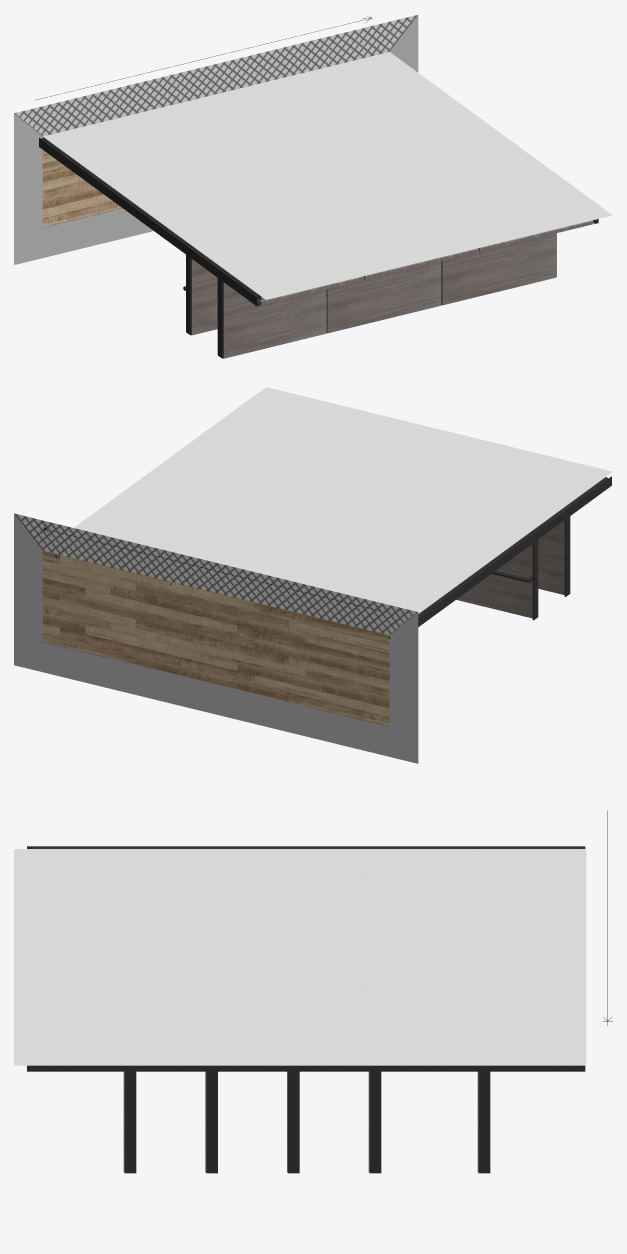
File: A3 Pantry V3 SC.OBJ
3 renders of one model, top to bottom at view 1: azimuth 30°, elevation 25°; view 2: azimuth 150°, elevation 25°; view 3: azimuth 270°, elevation 25°, orthographic. The views are drawn at different scales.
Visible parts, largest first — view 1: Object_86, Object_87, Object_59, Object_62, Object_64, Object_93, Object_91, Object_85, Object_2, Object_56, Object_0, Object_89 (+5 smaller); view 2: Object_86, Object_85, Object_87, Object_91, Object_93, Object_89, Object_56, Object_2, Object_59, Object_0, Object_60, Object_57; view 3: Object_86, Object_48, Object_65, Object_79, Object_84, Object_69, Object_74, Object_2, Object_0.
Boxes of the visible parts, <box> form: Object_86: <box>43,52,612,299</box>; Object_87: <box>14,15,417,136</box>; Object_59: <box>223,282,326,358</box>; Object_62: <box>327,261,441,333</box>; Object_64: <box>442,233,555,305</box>; Object_93: <box>14,113,42,264</box>; Object_91: <box>14,208,153,264</box>; Object_85: <box>42,137,122,227</box>; Object_2: <box>39,137,260,306</box>; Object_56: <box>191,259,217,335</box>; Object_0: <box>41,137,262,300</box>; Object_89: <box>390,15,418,72</box>; Object_86: <box>74,387,612,613</box>; Object_85: <box>42,550,389,726</box>; Object_87: <box>14,513,417,634</box>; Object_91: <box>14,642,417,763</box>; Object_93: <box>389,612,418,763</box>; Object_89: <box>14,514,42,664</box>; Object_56: <box>456,544,532,618</box>; Object_2: <box>418,476,611,626</box>; Object_59: <box>538,520,564,594</box>; Object_0: <box>418,477,608,617</box>; Object_60: <box>564,516,570,596</box>; Object_57: <box>532,540,538,620</box>; Object_86: <box>14,849,586,1065</box>; Object_48: <box>27,1065,585,1071</box>; Object_65: <box>124,1071,136,1173</box>; Object_79: <box>369,1071,381,1173</box>; Object_84: <box>478,1071,490,1173</box>; Object_69: <box>206,1071,217,1173</box>; Object_74: <box>288,1071,299,1173</box>; Object_2: <box>27,846,585,848</box>; Object_0: <box>32,847,582,848</box>.
Bounding box in the file's own units: 2813 × 1034 × 2817.
Materials: 11 (11 with a texture image).
